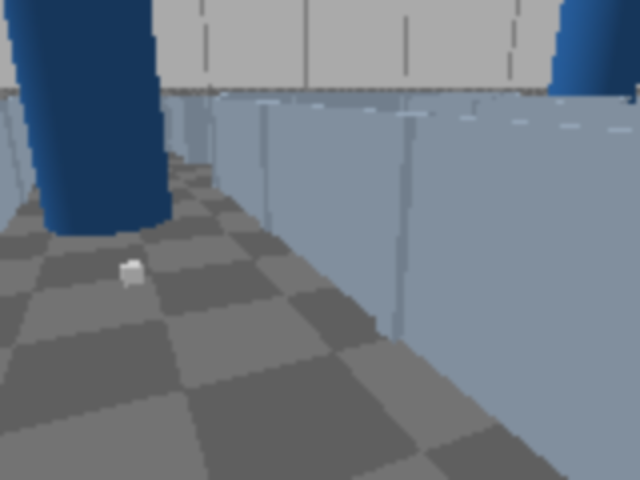puck: (119, 260, 144, 286)
